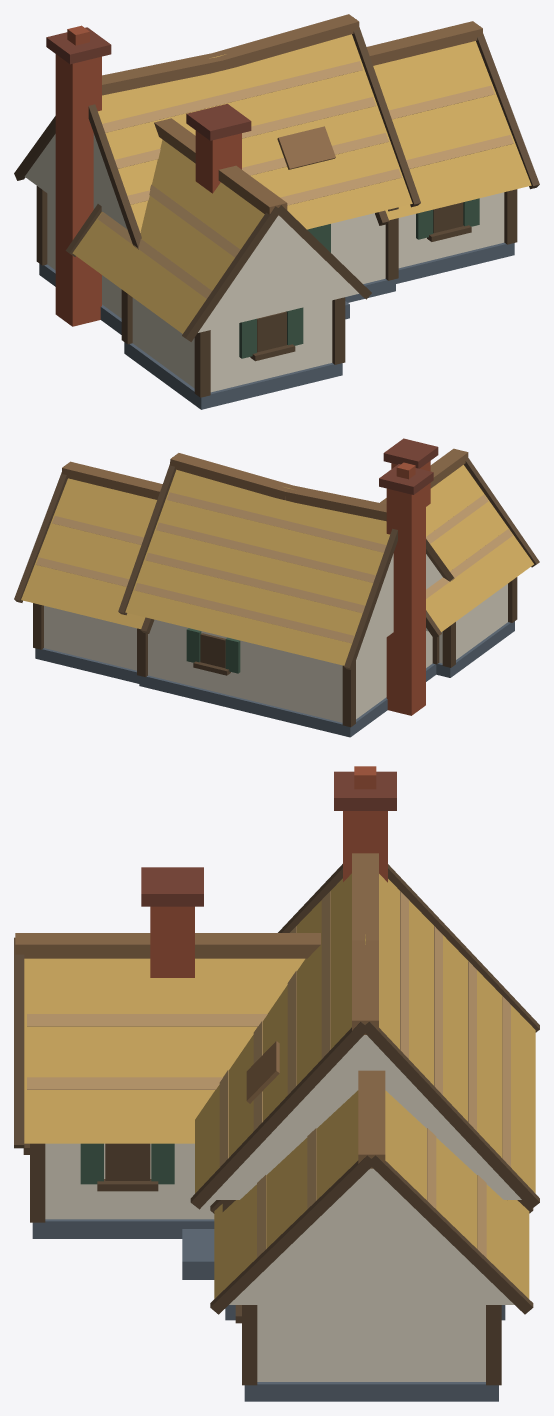
The model's file is cottage-b2.glb.
3 renders of one model, top to bottom at view 1: azimuth 30°, elevation 25°; view 2: azimuth 150°, elevation 25°; view 3: azimuth 270°, elevation 25°, orthographic. The views are drawn at different scales.
Visible parts, largest first — view 1: house, accent; view 2: house, accent; view 3: house, accent.
Part boxes in pixels (bbox=[...]): house: bbox=[14, 14, 539, 409]; accent: bbox=[239, 198, 479, 358]; house: bbox=[14, 438, 539, 737]; accent: bbox=[186, 628, 240, 673]; house: bbox=[14, 766, 539, 1401]; accent: bbox=[80, 1143, 174, 1184].
Size of the model in its own units: 10.19 by 6.51 by 8.19.
1 material, 1 textured.
